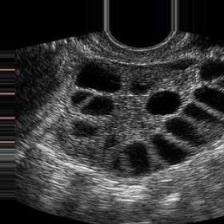pcos: (49, 45, 224, 184)
